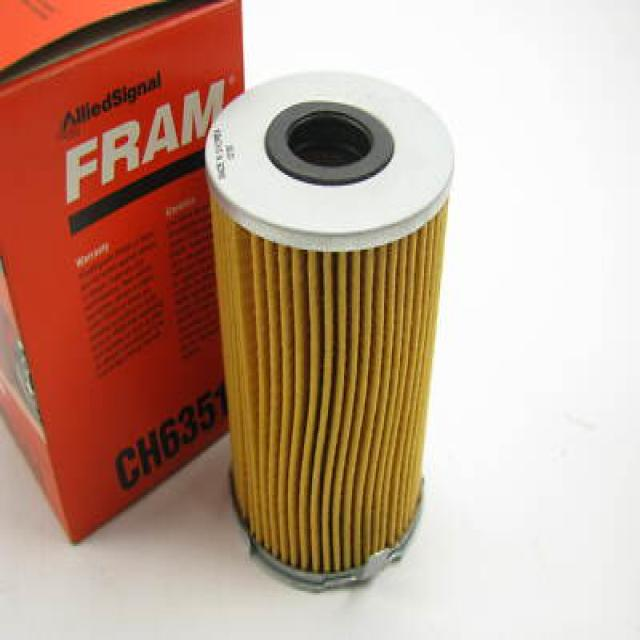oil_filter: (202, 67, 457, 584)
